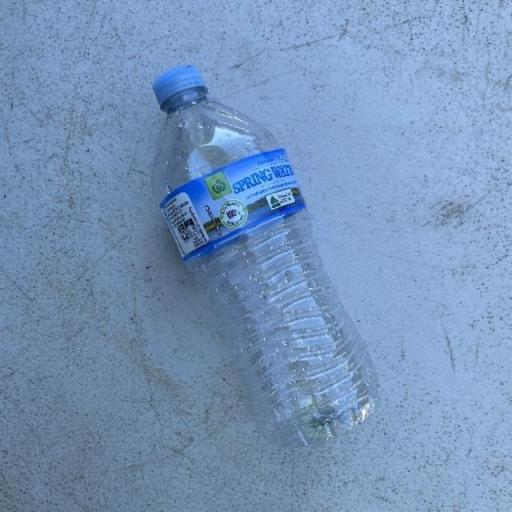plastic: (148, 63, 380, 450)
